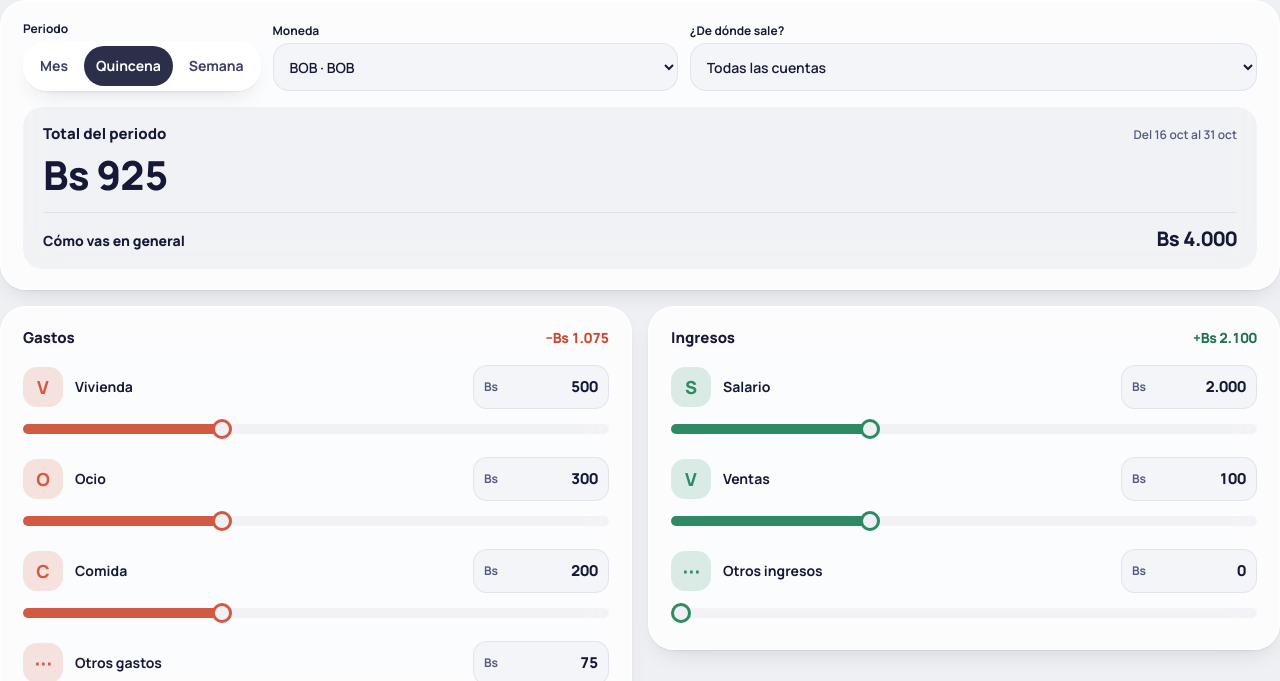
What If? simulator › shows how you are doing overall: today's balance plus what the simulator moves
Set the slider labelled "Vivienda" to "200" at {"x": 411, "y": 429}, box 23,413 -> 609,445
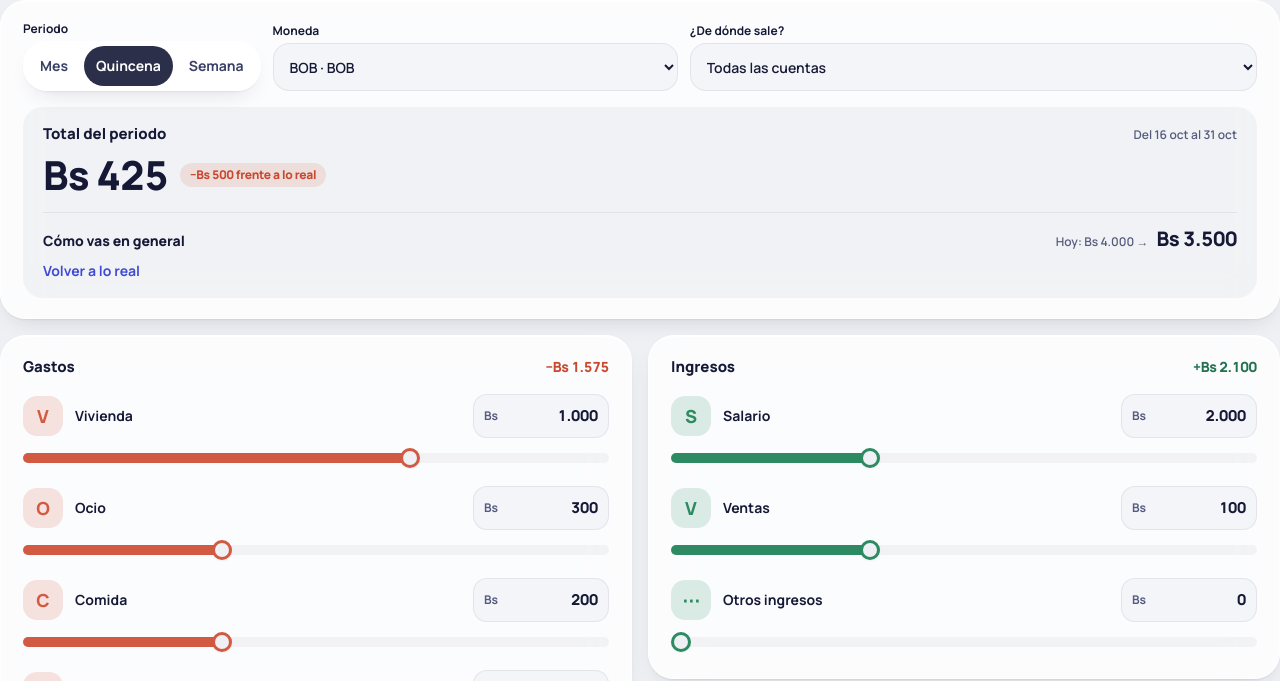
Expected: the text with test id "whatif-general-amount" reads "Bs 3.500", 1156,224 -> 1237,252
Expected: the text "Hoy: Bs 4.000 →" is shown, 1056,234 -> 1148,250
# Con una cuenta elegida, parte del saldo de esa cuenta.
Select "Efectivo" in the dropdown labelled "¿De dónde sale?" at {"x": 973, "y": 67}, box 690,43 -> 1257,91
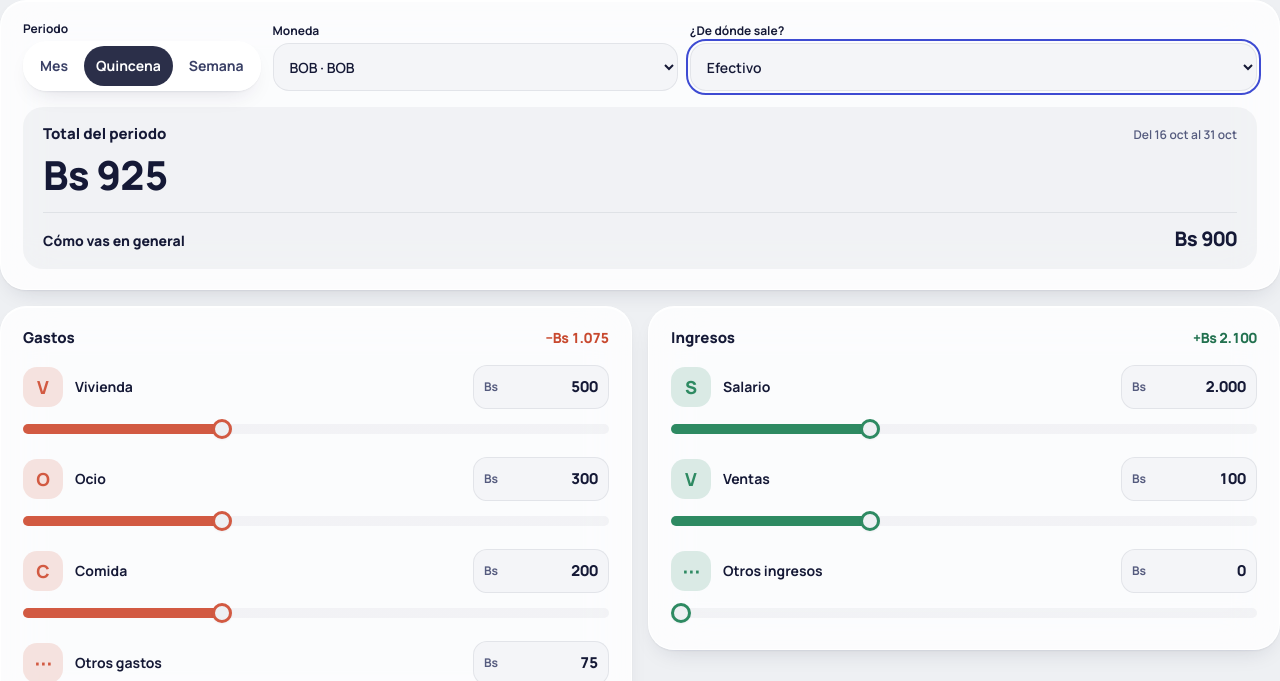
Expected: the text "Bs 900" is shown, 1174,224 -> 1237,252
